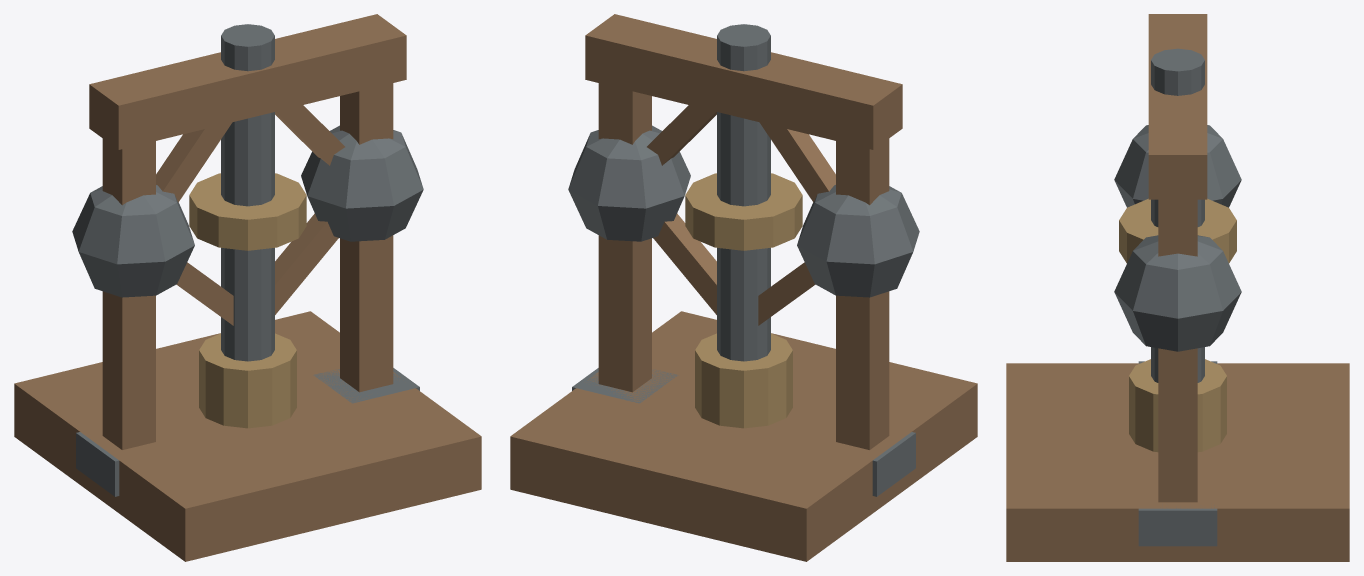
The model's file is vf_governor.glb.
3 views of the same model, side by side, from view 1: azimuth 30°, elevation 25°; view 2: azimuth 150°, elevation 25°; view 3: azimuth 270°, elevation 25° (orthographic).
Parts seen in each view (by area): view 1: Static_Oak, Rotor_Iron, Rotor_Oak, Static_Bronze, Rotor_Bronze, Static_Iron; view 2: Static_Oak, Rotor_Iron, Rotor_Oak, Static_Bronze, Rotor_Bronze, Static_Iron; view 3: Static_Oak, Rotor_Iron, Static_Bronze, Static_Iron, Rotor_Bronze.
Boxes of the visible parts, x1,y1,x2,y2 form: Static_Oak: (14, 14, 481, 561); Rotor_Iron: (72, 24, 423, 361); Rotor_Oak: (156, 105, 344, 325); Static_Bronze: (199, 333, 296, 428); Rotor_Bronze: (189, 173, 306, 250); Static_Iron: (76, 368, 419, 496); Static_Oak: (510, 14, 977, 561); Rotor_Iron: (568, 24, 919, 361); Rotor_Oak: (647, 105, 835, 325); Static_Bronze: (695, 333, 792, 428); Rotor_Bronze: (685, 173, 802, 250); Static_Iron: (572, 368, 915, 496); Static_Oak: (1006, 14, 1349, 561); Rotor_Iron: (1114, 48, 1241, 382); Static_Bronze: (1129, 359, 1226, 452); Static_Iron: (1138, 361, 1217, 546); Rotor_Bronze: (1119, 198, 1236, 263).
Size of the model in its own units: 0.8 by 0.965 by 0.7.
